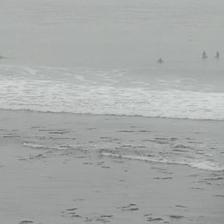surfer: (202, 51, 208, 59), (214, 51, 220, 58), (157, 57, 164, 63), (1, 55, 8, 59)
